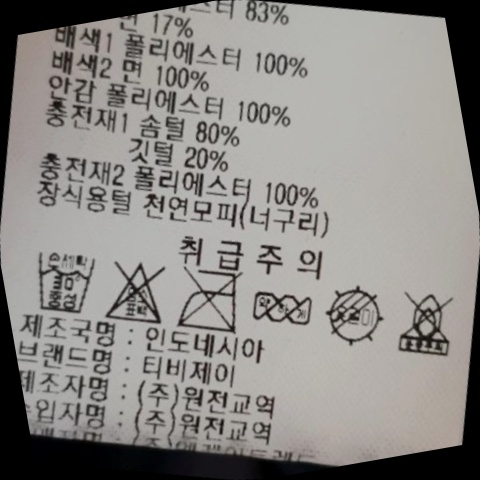DN_iron: (163, 255, 256, 348)
hand_wash: (21, 235, 113, 330)
line_dry_in_shade: (315, 273, 400, 359)
non_chlorine_bleach: (92, 239, 187, 339)
wring: (244, 274, 327, 341)
